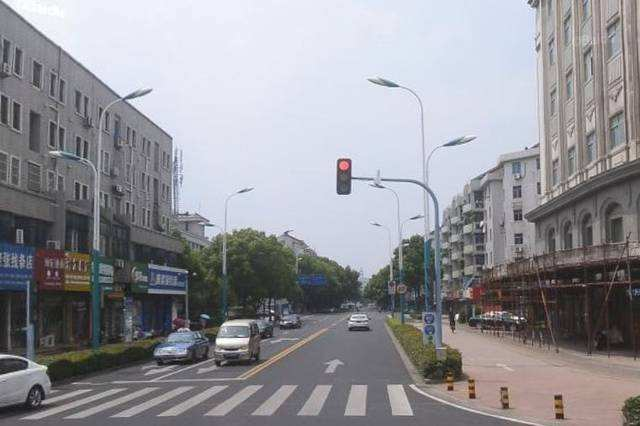red: (335, 156, 354, 200)
